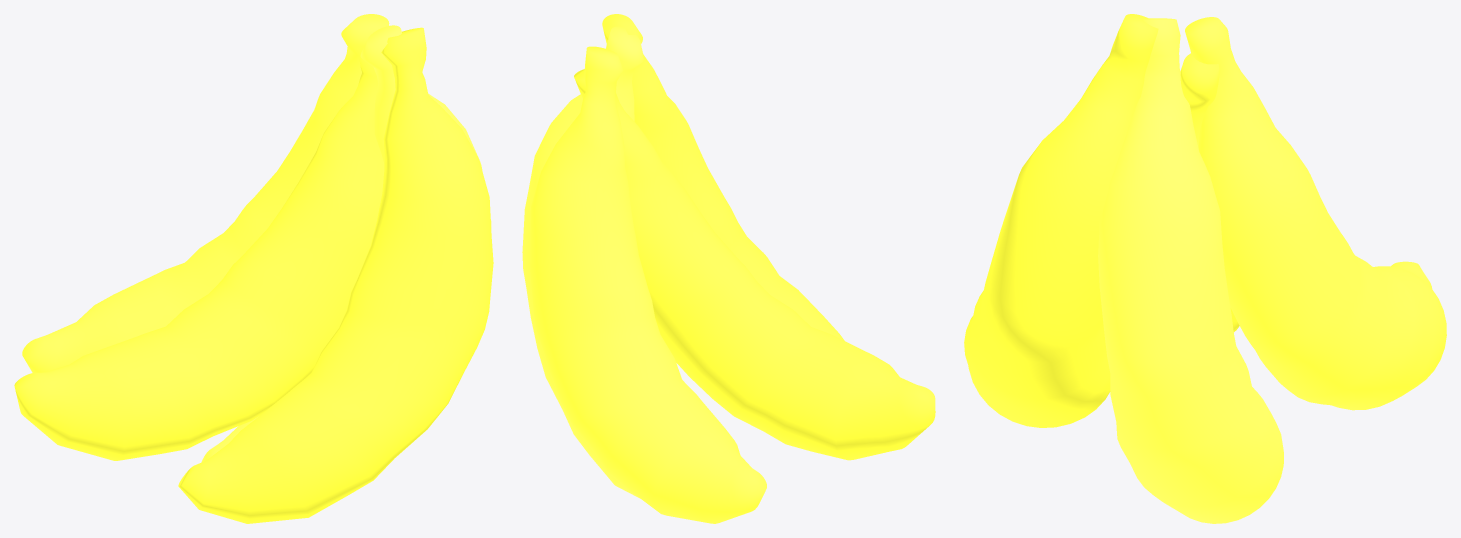
File: banana.fbx
3 views of the same model, side by side, from view 1: azimuth 30°, elevation 25°; view 2: azimuth 150°, elevation 25°; view 3: azimuth 270°, elevation 25° (orthographic). The views are drawn at different scales.
Parts seen in each view (by area): view 1: バナナ一本.001, バナナ一本.003, バナナ一本.002, バナナ一本; view 2: バナナ一本.002, バナナ一本.003, バナナ一本.001, バナナ一本; view 3: バナナ一本, バナナ一本.002, バナナ一本.001, バナナ一本.003.
Part boxes in pixels (<box>): バナナ一本.001: <box>178,27,493,523</box>; バナナ一本.003: <box>14,57,384,460</box>; バナナ一本.002: <box>22,14,389,372</box>; バナナ一本: <box>201,25,491,462</box>; バナナ一本.002: <box>529,46,766,523</box>; バナナ一本.003: <box>574,69,935,460</box>; バナナ一本.001: <box>602,14,844,340</box>; バナナ一本: <box>522,26,643,498</box>; バナナ一本: <box>1098,18,1283,523</box>; バナナ一本.002: <box>1185,17,1446,410</box>; バナナ一本.001: <box>964,14,1158,427</box>; バナナ一本.003: <box>1180,53,1239,332</box>.
Bounding box in the file's own units: 975 × 967 × 775.
